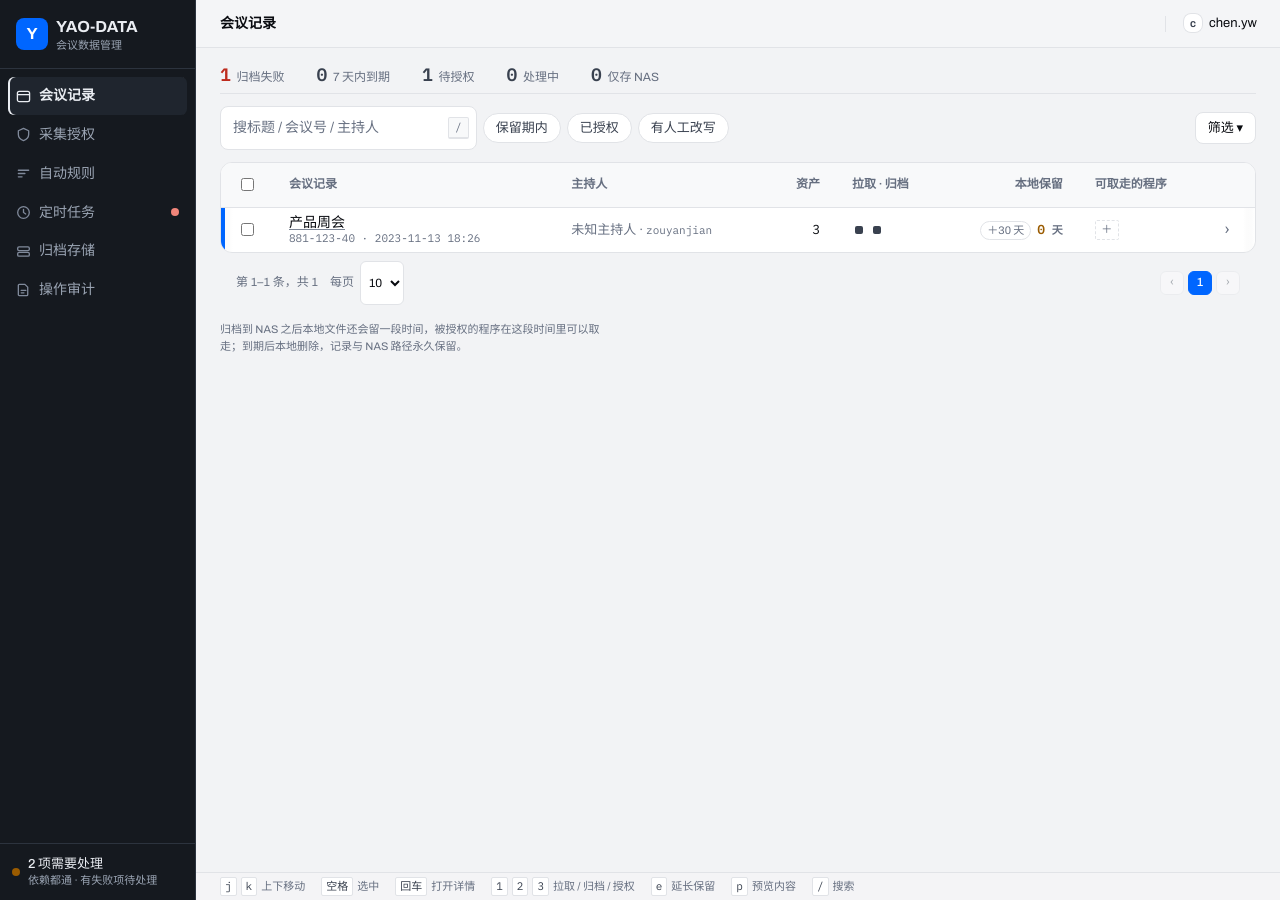
Test: AppShell · 左栏「定时任务」旁的红点 › 打开定时任务页、列表读完：红点灭，记号是最新那条的 lastFailedAt
Expected: the element with test id "jobs-dot" is shown, [171,208,179,216]
What coordinates should you click on to do the following:
click the link "定时任务"
I would click on:
 (98, 212)
Its box is [16,204,179,220].
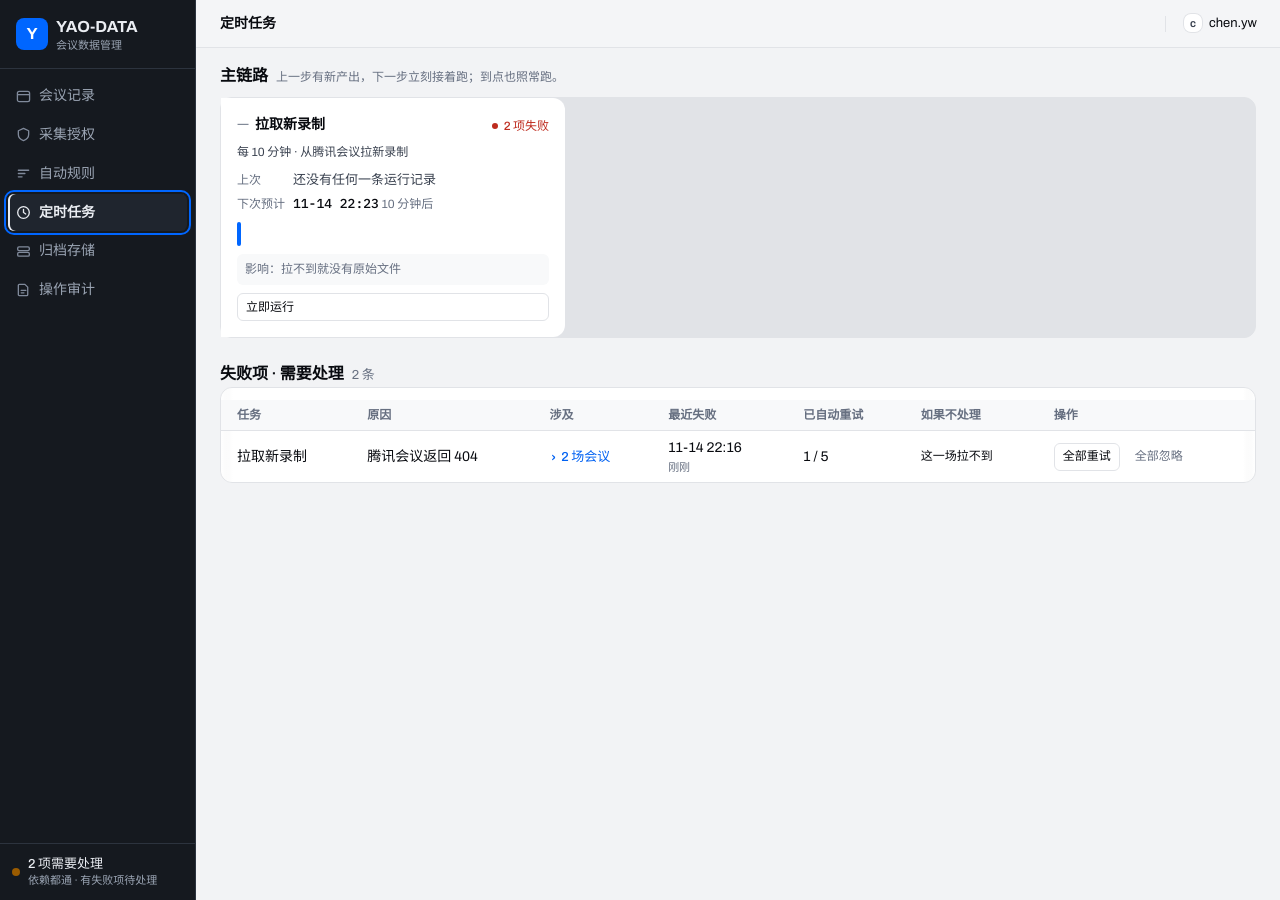
Expected: the element with test id "jobs-dot" is gone
